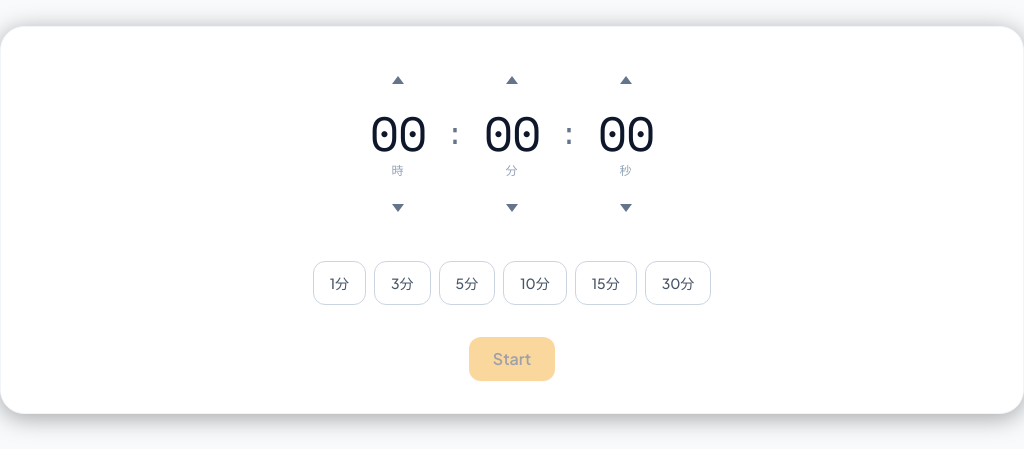
CountdownPanel - extended › selects preset and updates time setter display
The image size is (1024, 449).
Step 1. Click the button "5分" → click(467, 283), box [439,261,495,305]
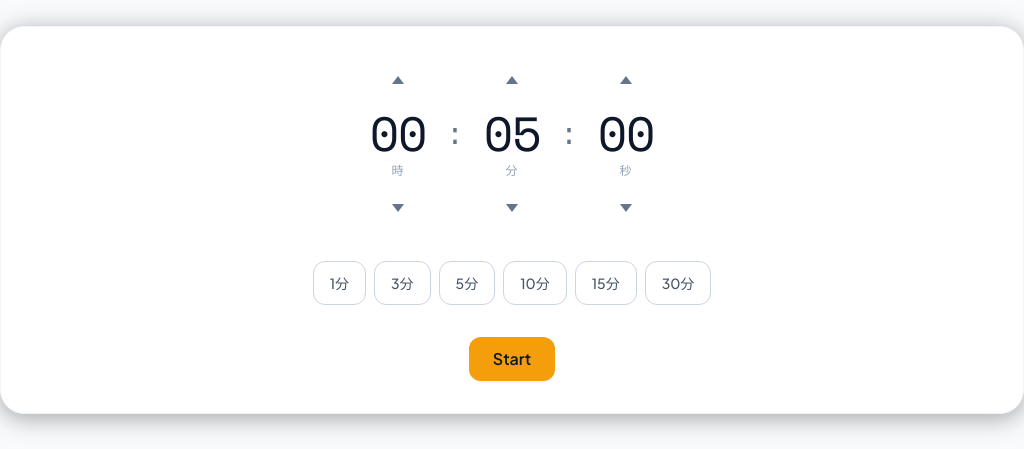
Expected: the text "05" is shown, [484,97,540,168]
